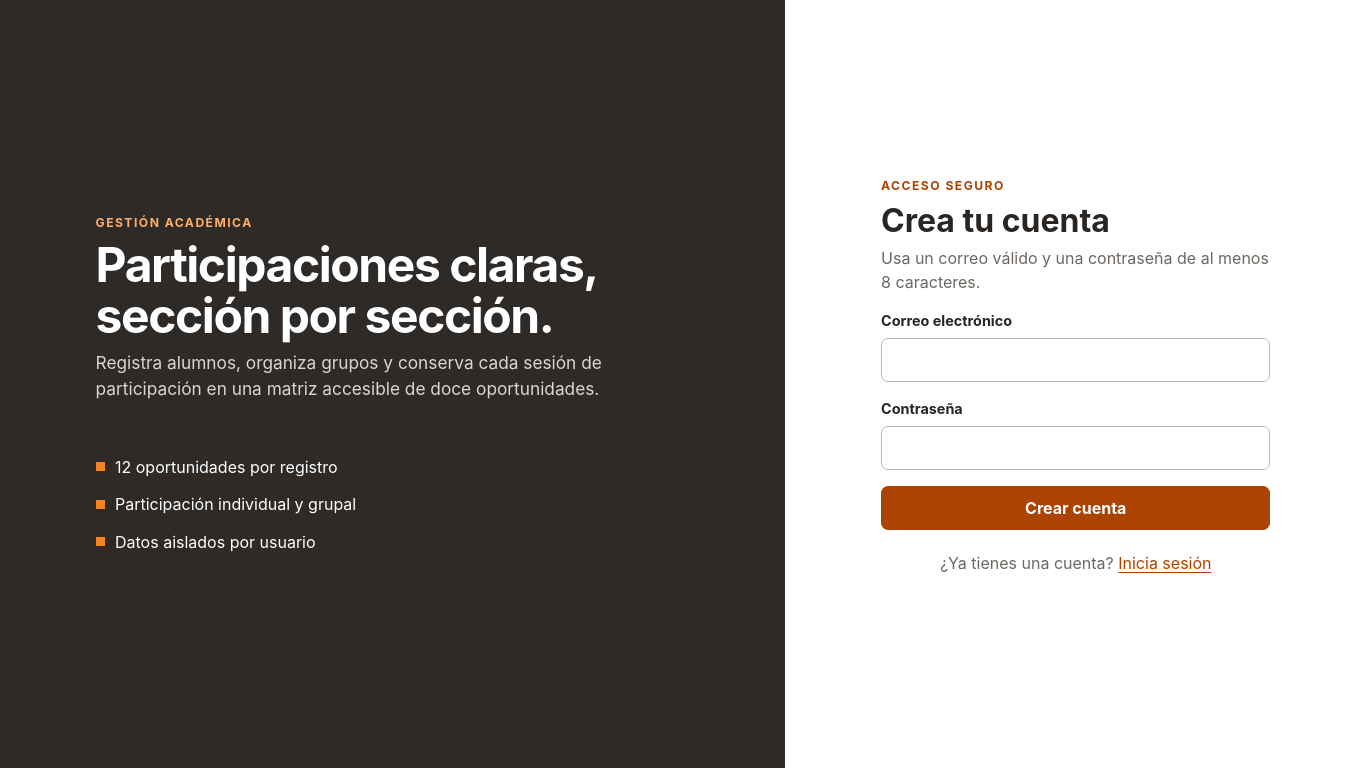
Test case: AuthPage › submits email and password registration
Type "nuevo@example.com" into the field labelled "Correo electrónico".
click(1076, 360); type("nuevo@example.com")  # box [881,338,1270,382]
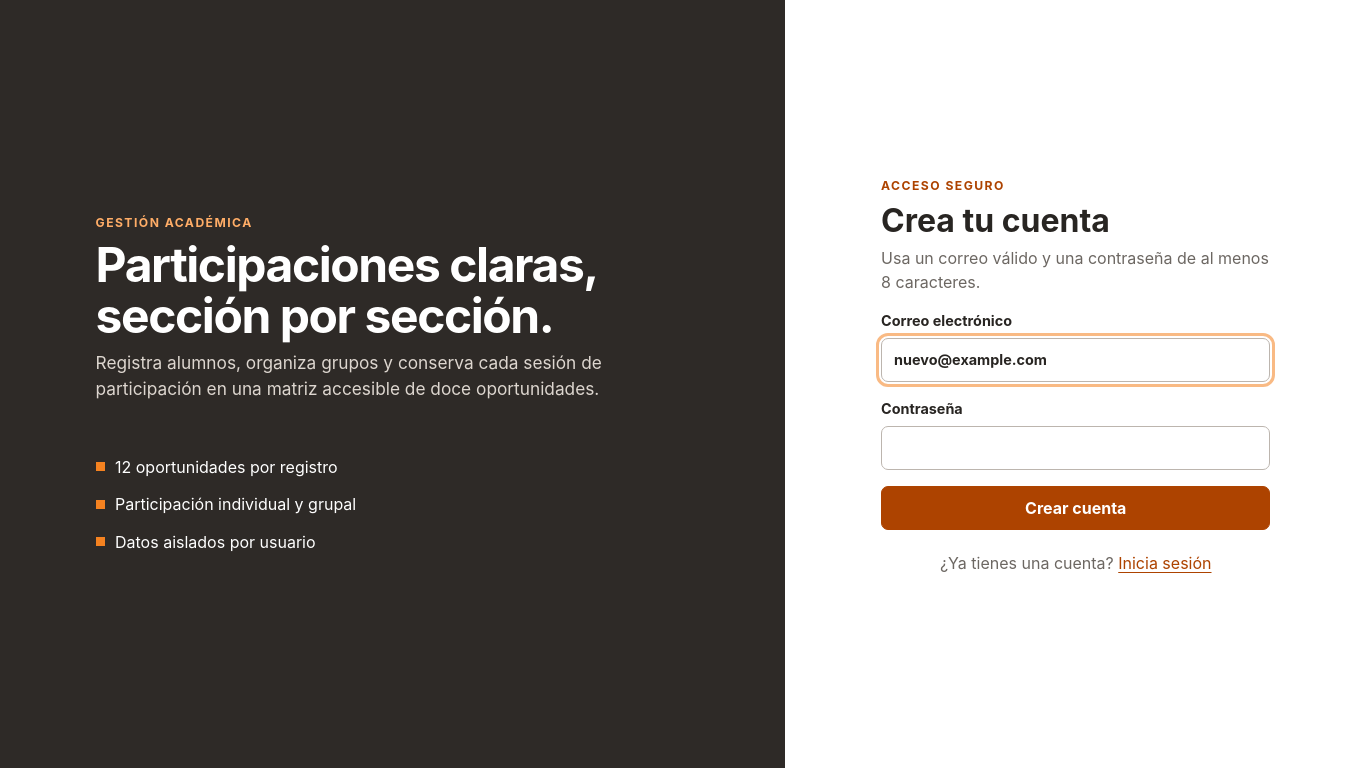
Type "secure-pass" into the password field labelled "Contraseña".
click(1076, 448); type("secure-pass")  # box [881,426,1270,470]
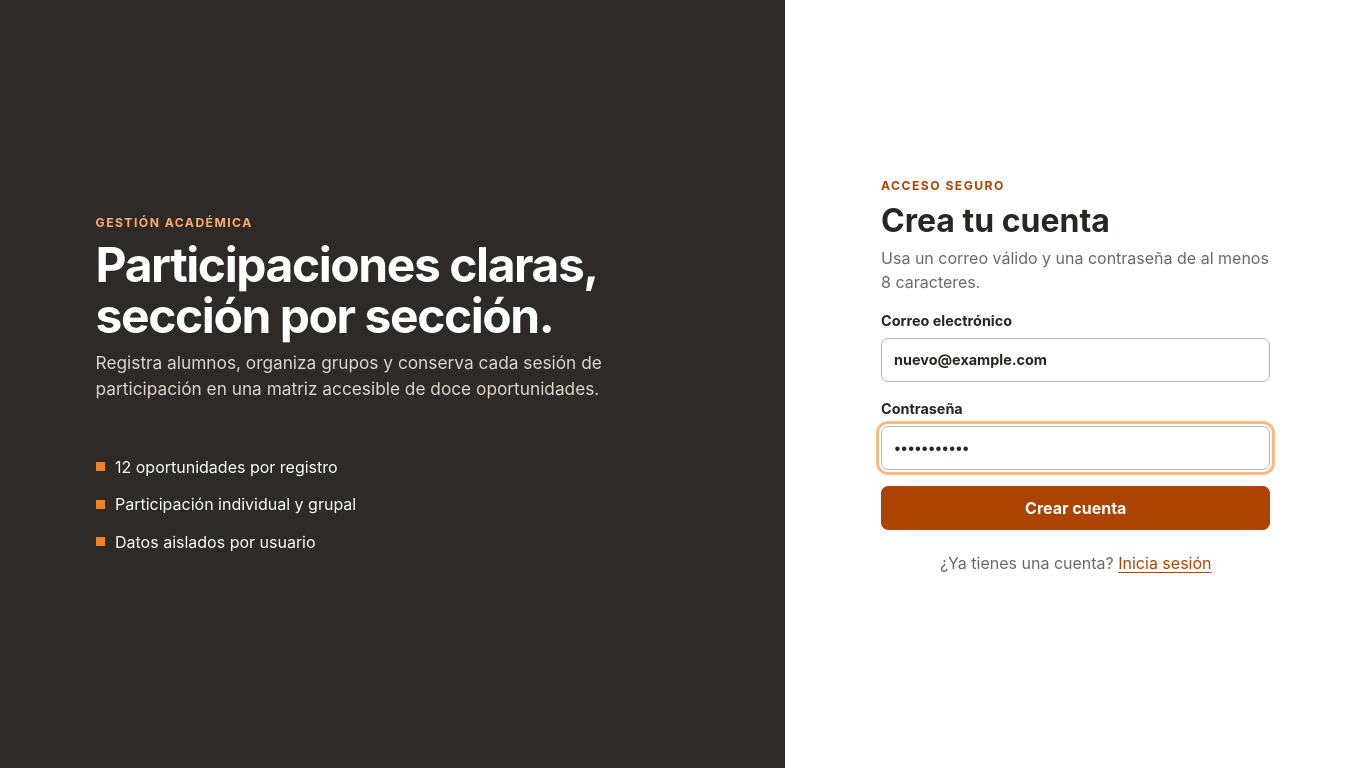
Click the button "Crear cuenta".
click(1076, 508)  # box [881,486,1270,530]
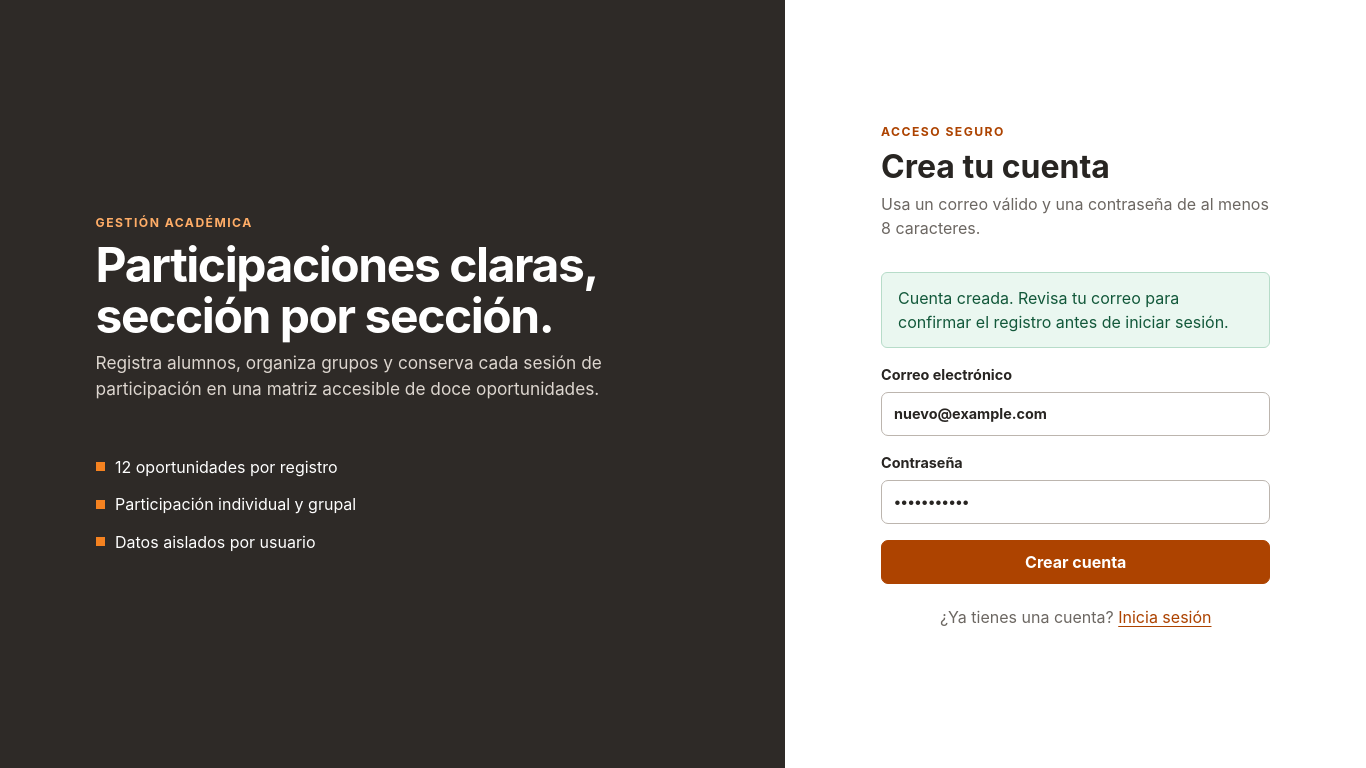
Check: the text "Cuenta creada" is shown, box [898,288,1229,332]
